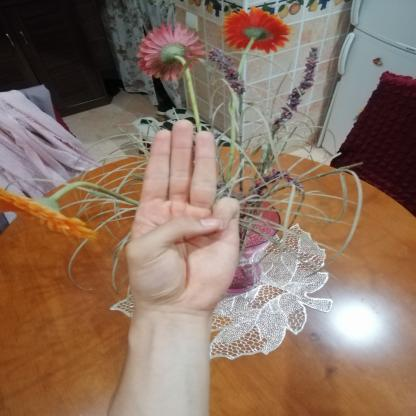THA: (109, 111, 260, 321)
